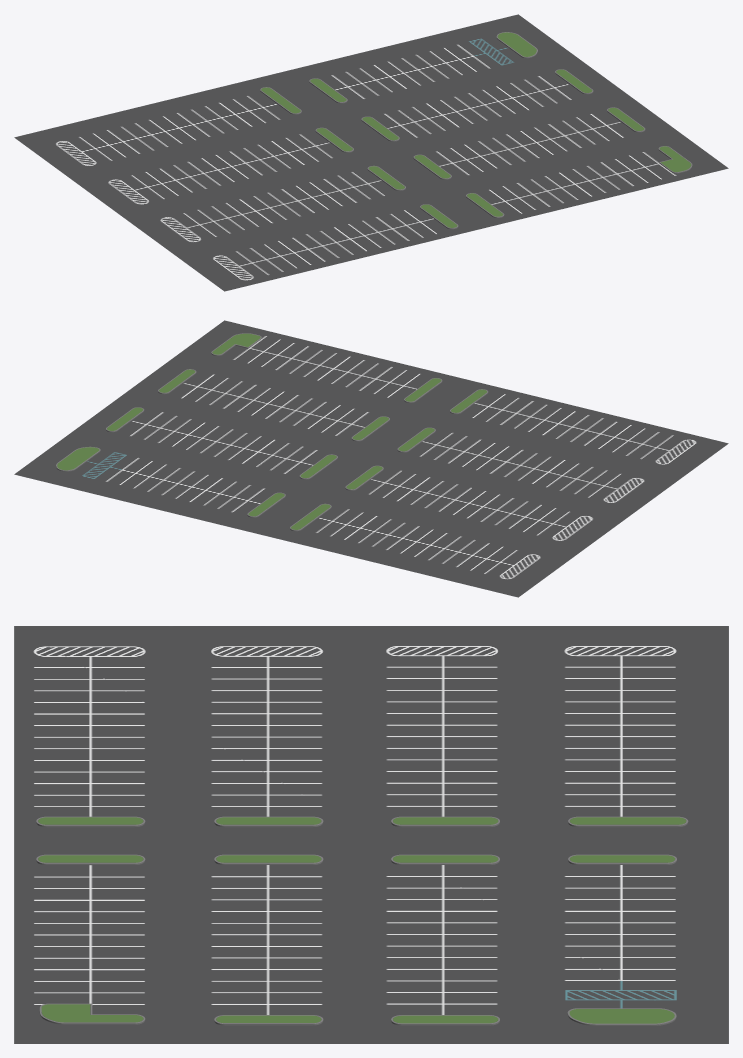
Rendered from ParkingLot.glb.
3 views of the same model, one above another, from view 1: azimuth 30°, elevation 25°; view 2: azimuth 150°, elevation 25°; view 3: azimuth 270°, elevation 25° (orthographic). The views are drawn at different scales.
Parts seen in each view (by area): view 1: ParkingLot; view 2: ParkingLot; view 3: ParkingLot.
Boxes of the visible parts, x1,y1,x2,y2 form: ParkingLot: [14, 14, 728, 291]; ParkingLot: [14, 320, 728, 597]; ParkingLot: [14, 626, 728, 1043].
Size of the model in its own units: 11070 by 28.65 by 8005.
4 materials, 1 textured.
